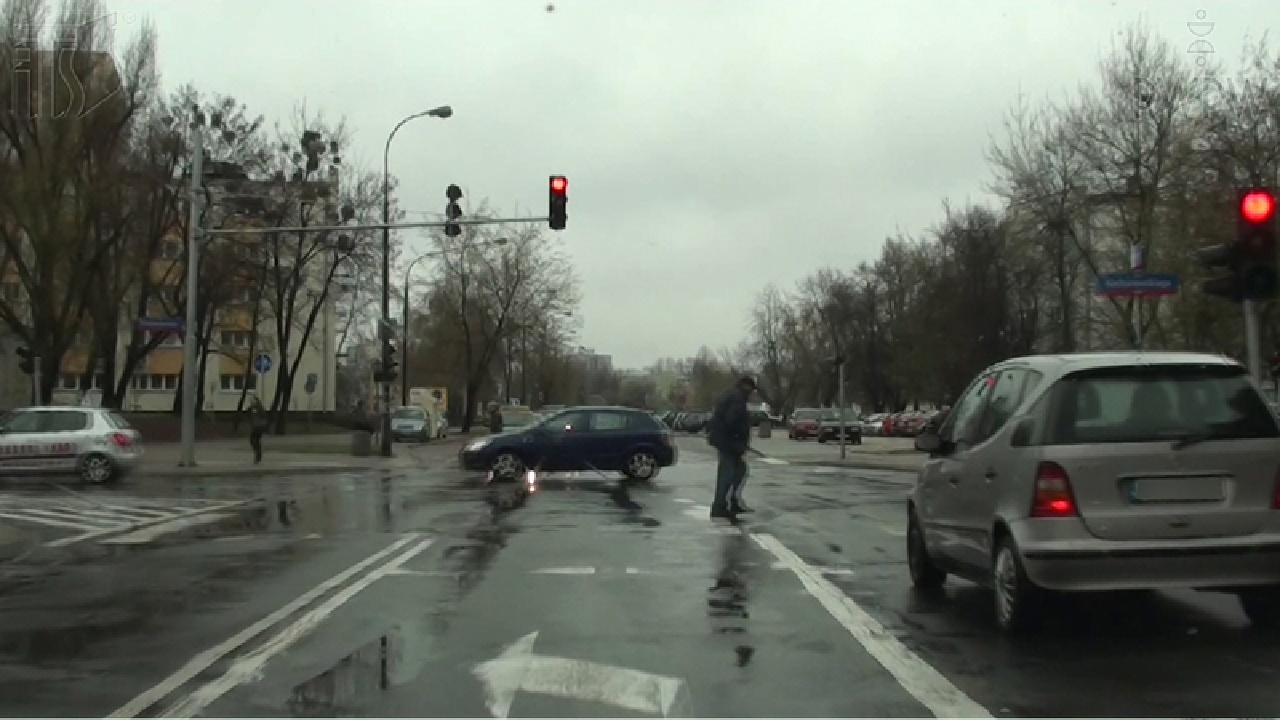Red: (1240, 191, 1276, 296), (551, 175, 567, 227)
